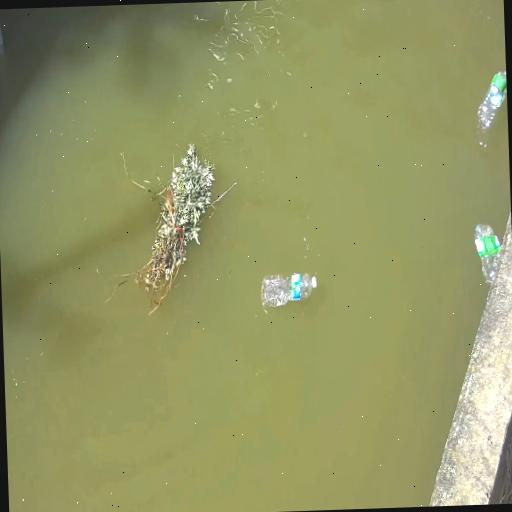plastic: (262, 274, 316, 307), (479, 72, 506, 130), (475, 224, 500, 283)
twig: (134, 143, 220, 312)
